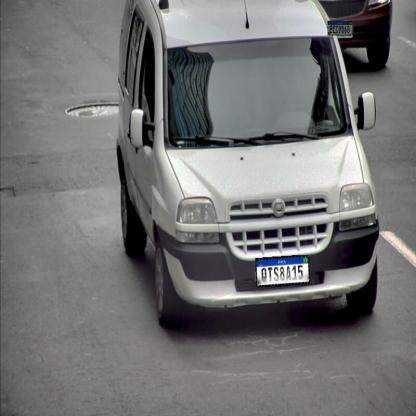PlacaM: (255, 255, 310, 287), (328, 21, 352, 35)
